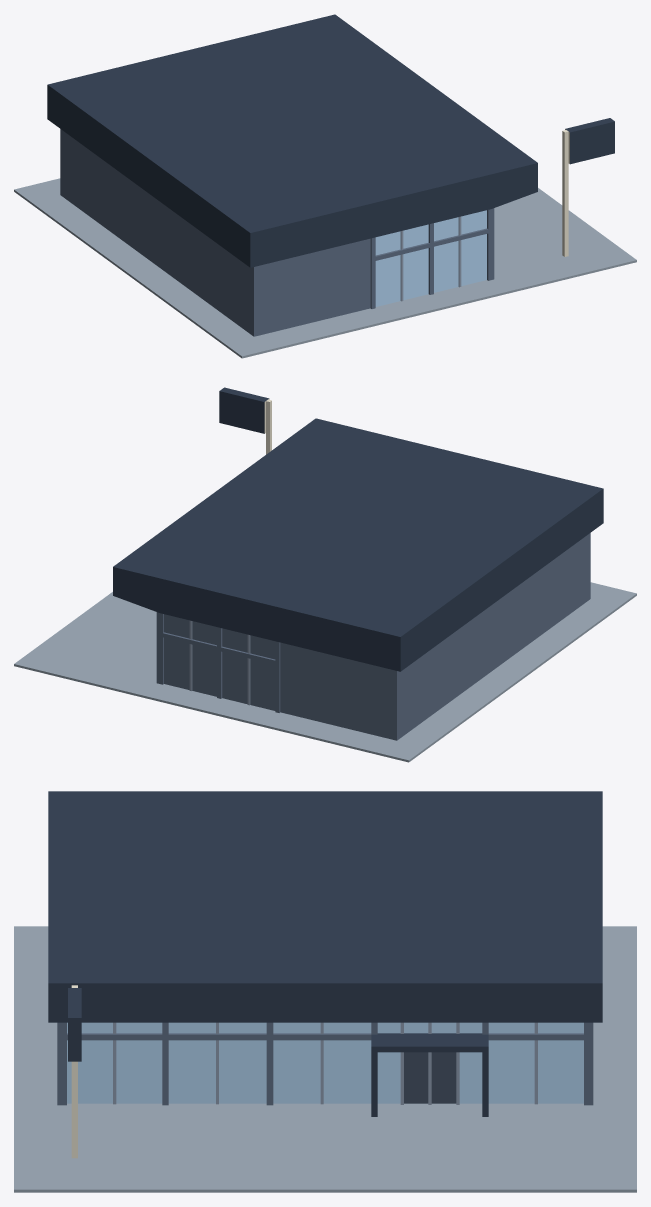
File: shop.glb
3 views of the same model, one above another, from view 1: azimuth 30°, elevation 25°; view 2: azimuth 150°, elevation 25°; view 3: azimuth 270°, elevation 25° (orthographic). The views are drawn at different scales.
Visible parts, largest first — view 1: shop; view 2: shop; view 3: shop.
Part boxes in pixels (x1,y1,x2,y2): shop: [14, 14, 636, 358]; shop: [14, 387, 636, 762]; shop: [14, 791, 636, 1192].
Size of the model in its own units: 20 by 6.13 by 20.
